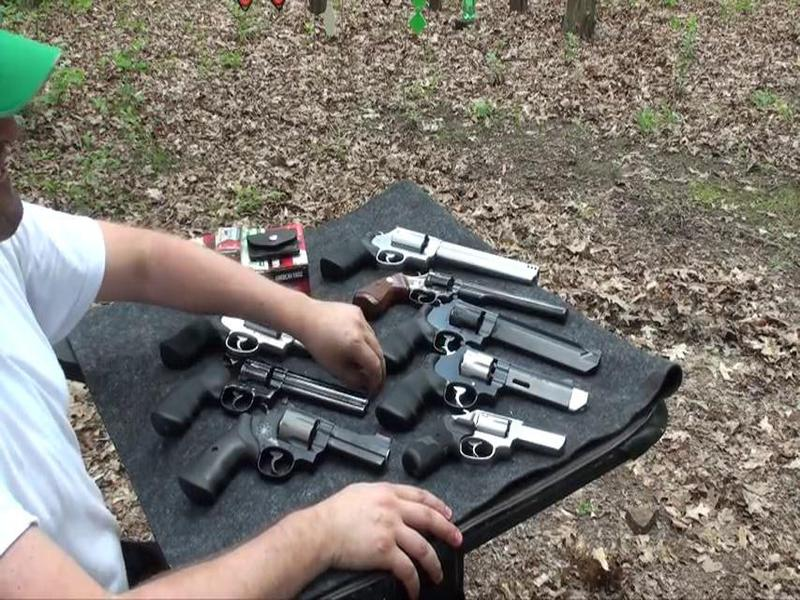Revolver: (367, 290, 611, 396)
